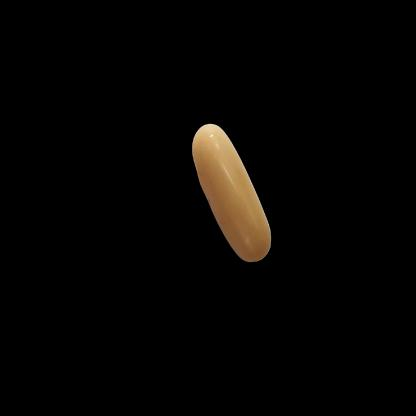t-muse: (174, 108, 284, 282)
